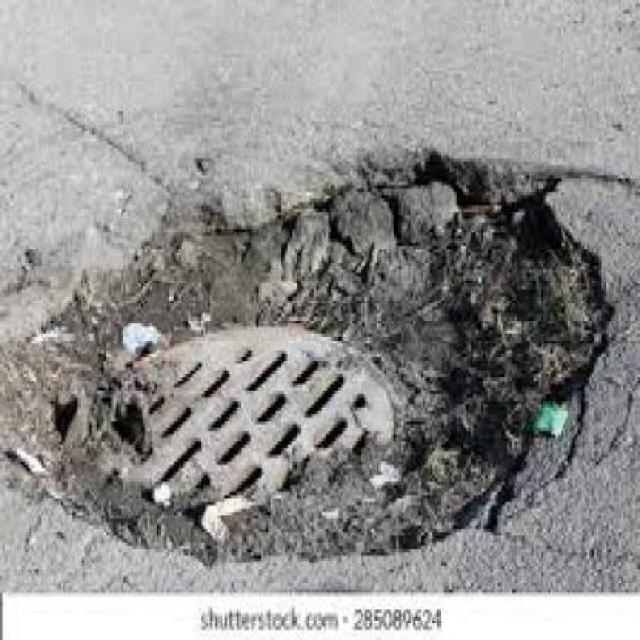pothole: (0, 138, 617, 568)
